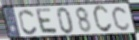0: (56, 6, 75, 35)
8: (75, 6, 93, 34)
C: (92, 5, 114, 35), (18, 9, 39, 36), (111, 5, 132, 32)
E: (35, 8, 59, 36)
